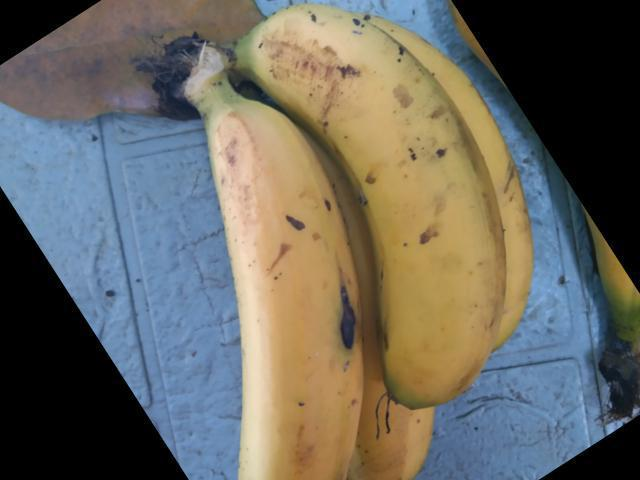ripe: (265, 3, 521, 408), (186, 84, 394, 479)
